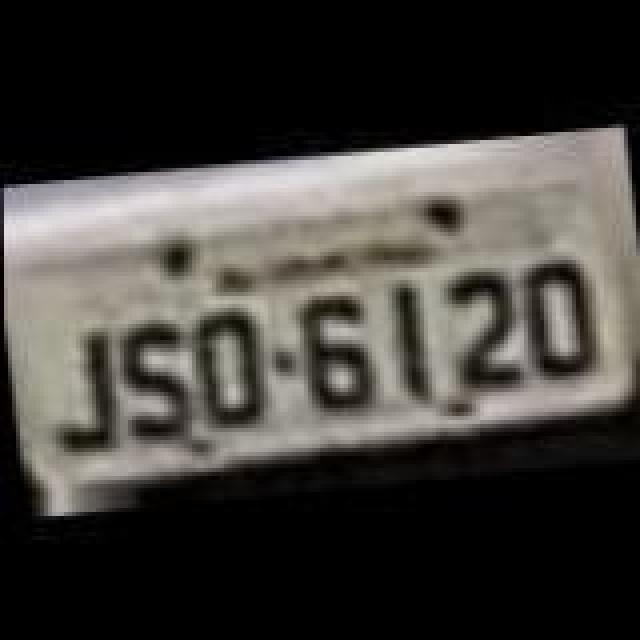1: (380, 280, 436, 404)
2: (444, 264, 524, 396)
6: (288, 288, 376, 420)
J: (44, 324, 116, 452)
O: (188, 306, 268, 434), (516, 254, 596, 378)
S: (108, 314, 188, 438)
